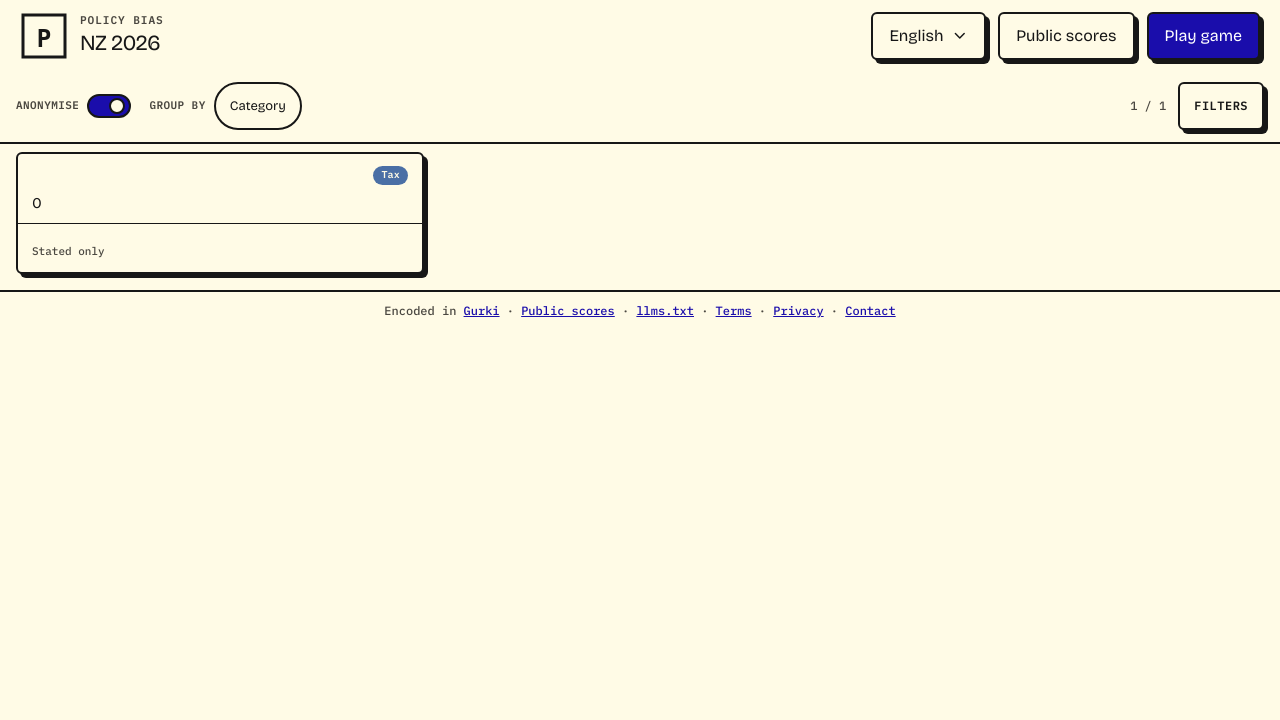
it: App board › puts the inspected card on the url so a share opens the same policy
The width and height of the screenshot is (1280, 720).
Click the button with aria-label "Inspect": coordinates (220, 213) [16,152,424,274]
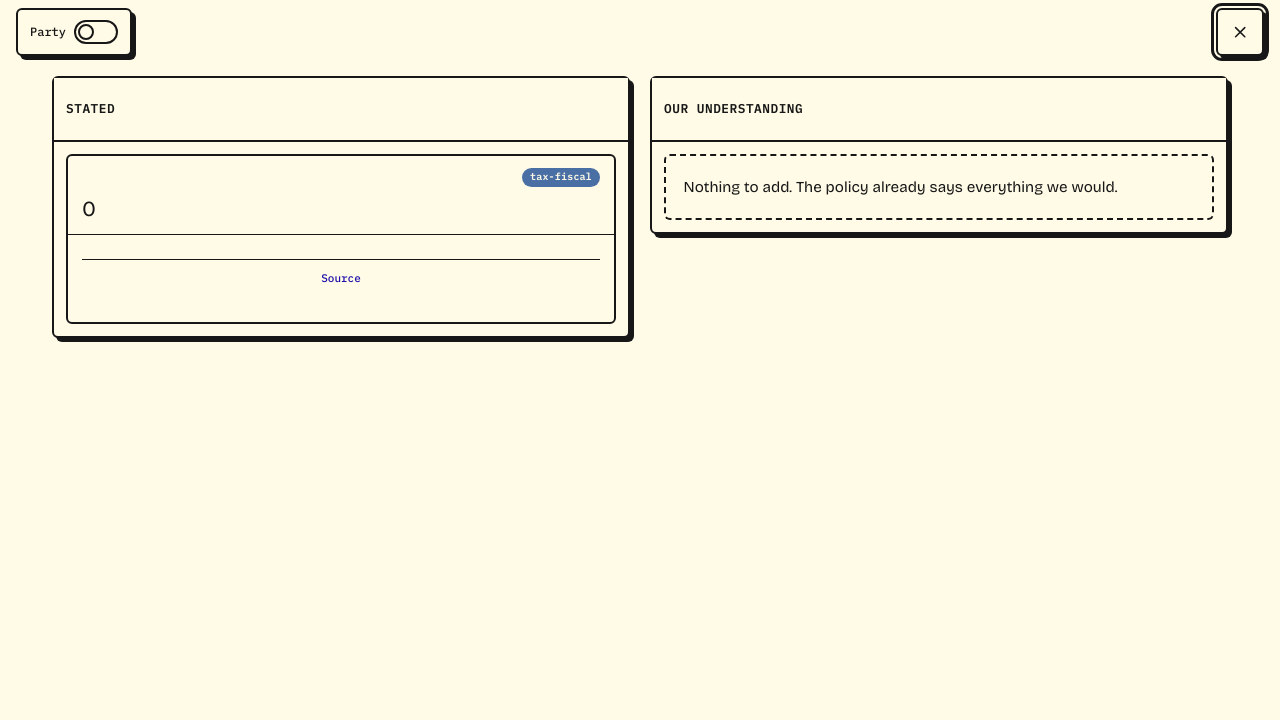
Expected: the dialog named "labour-0" is shown, [32,68,1248,370]
